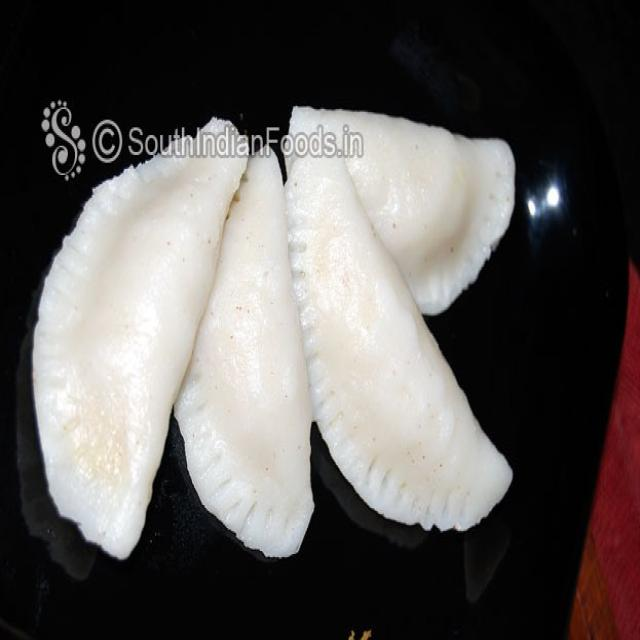poorna kolukattai: (8, 71, 576, 593)
